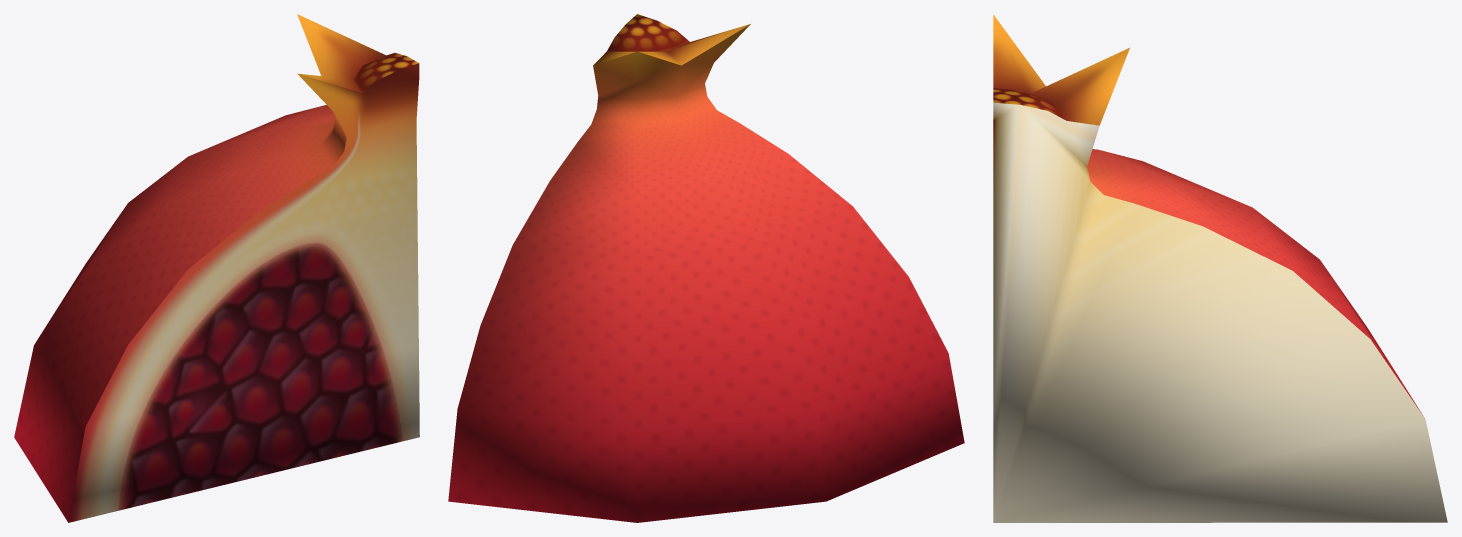
File: Pome_Top3.fbx
3 renders of one model, left to right at view 1: azimuth 30°, elevation 25°; view 2: azimuth 150°, elevation 25°; view 3: azimuth 270°, elevation 25°, orthographic. The views are drawn at different scales.
Parts seen in each view (by area): view 1: Pomegranate_Top3; view 2: Pomegranate_Top3; view 3: Pomegranate_Top3.
Boxes of the visible parts, x1=… form: Pomegranate_Top3: x1=14, y1=14, x2=419, y2=522; Pomegranate_Top3: x1=448, y1=14, x2=964, y2=522; Pomegranate_Top3: x1=993, y1=14, x2=1447, y2=522.
Size of the model in its own units: 0.7514 by 0.8041 by 0.75.
